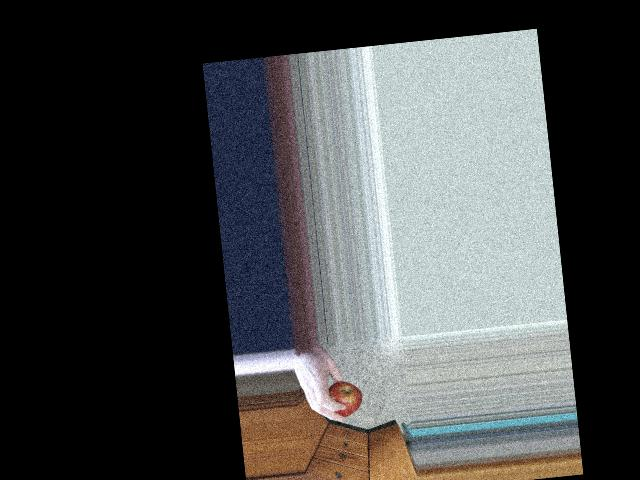apple: (321, 377, 365, 423)
